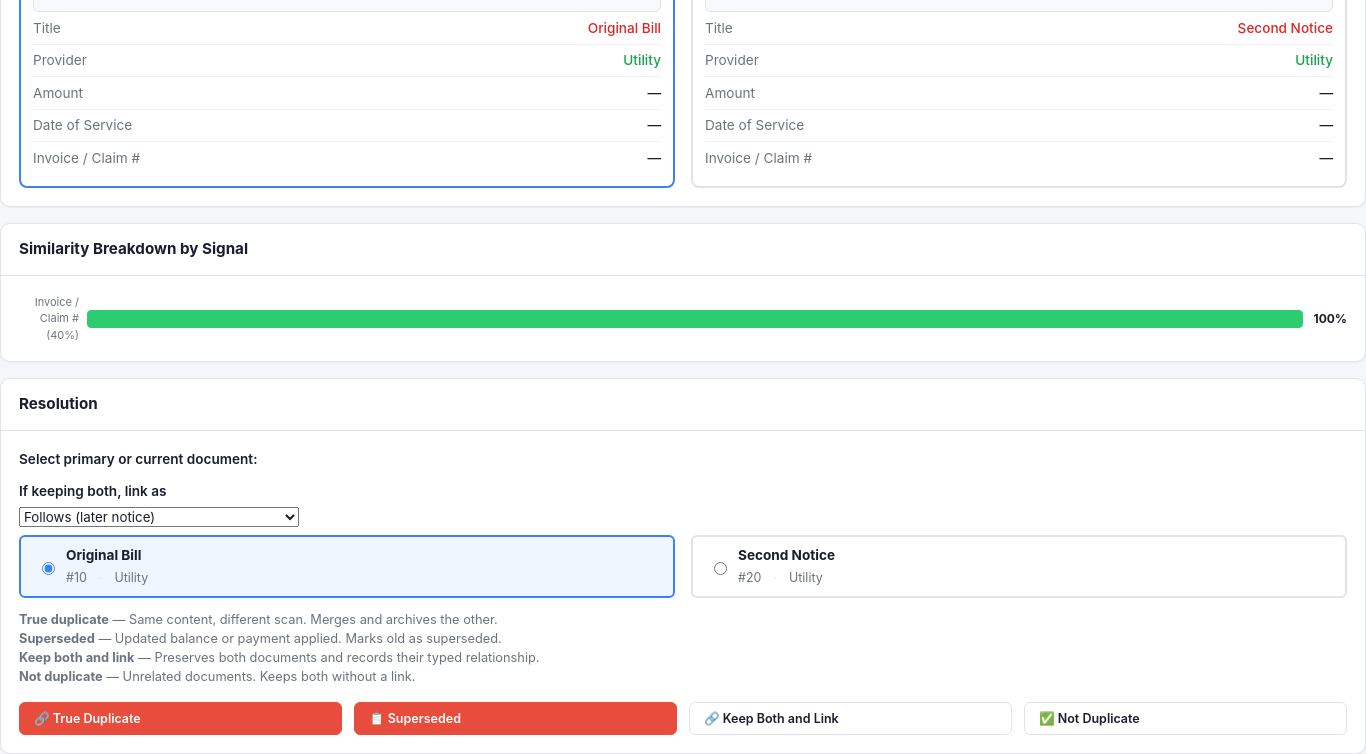
DuplicateDetail related-document resolution › keeps both documents and creates a typed relationship
This screenshot has width=1366, height=754.
(page scrolled)
Click the button "🔗 Keep Both and Link": (771, 719) [689, 702, 1012, 736]
(page scrolled)
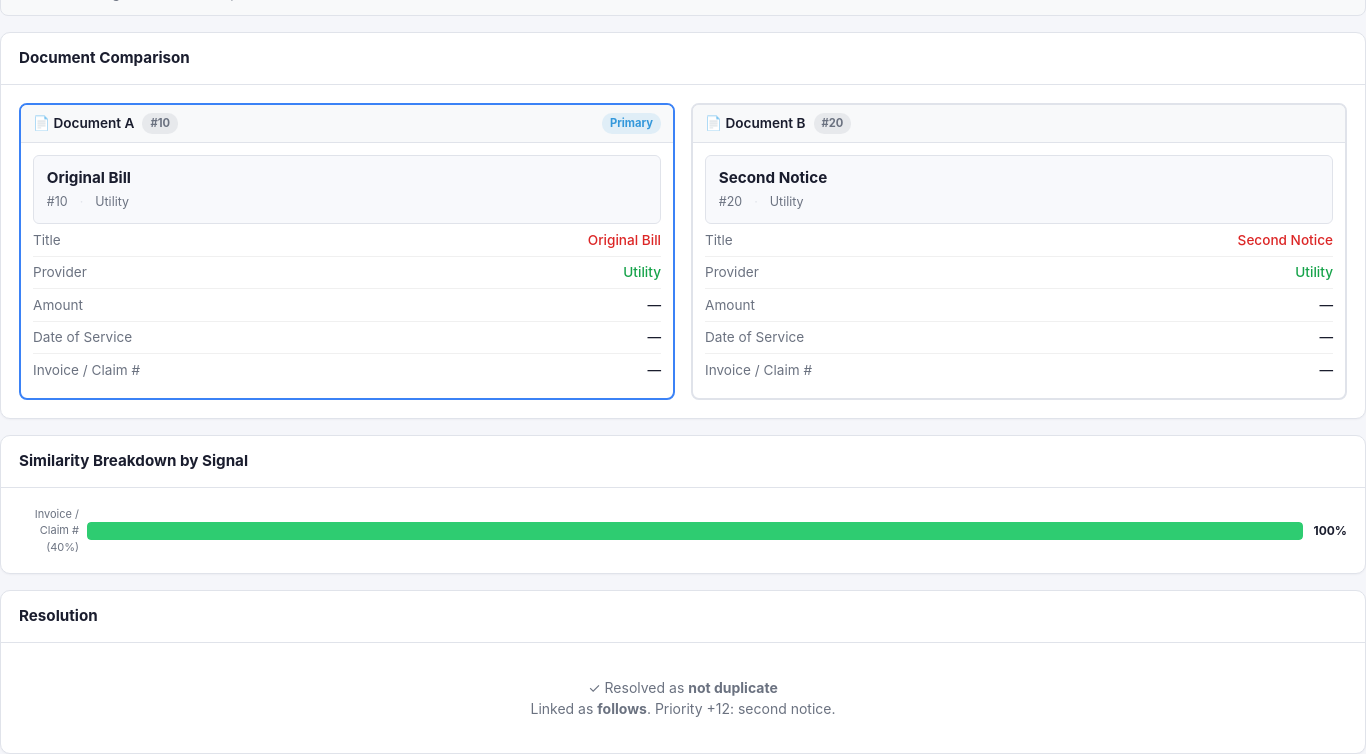
expect the text "Linked as" is shown: met, box [530, 700, 597, 717]
expect the text "Priority +12: second notice" is shown: met, box [655, 700, 832, 717]
